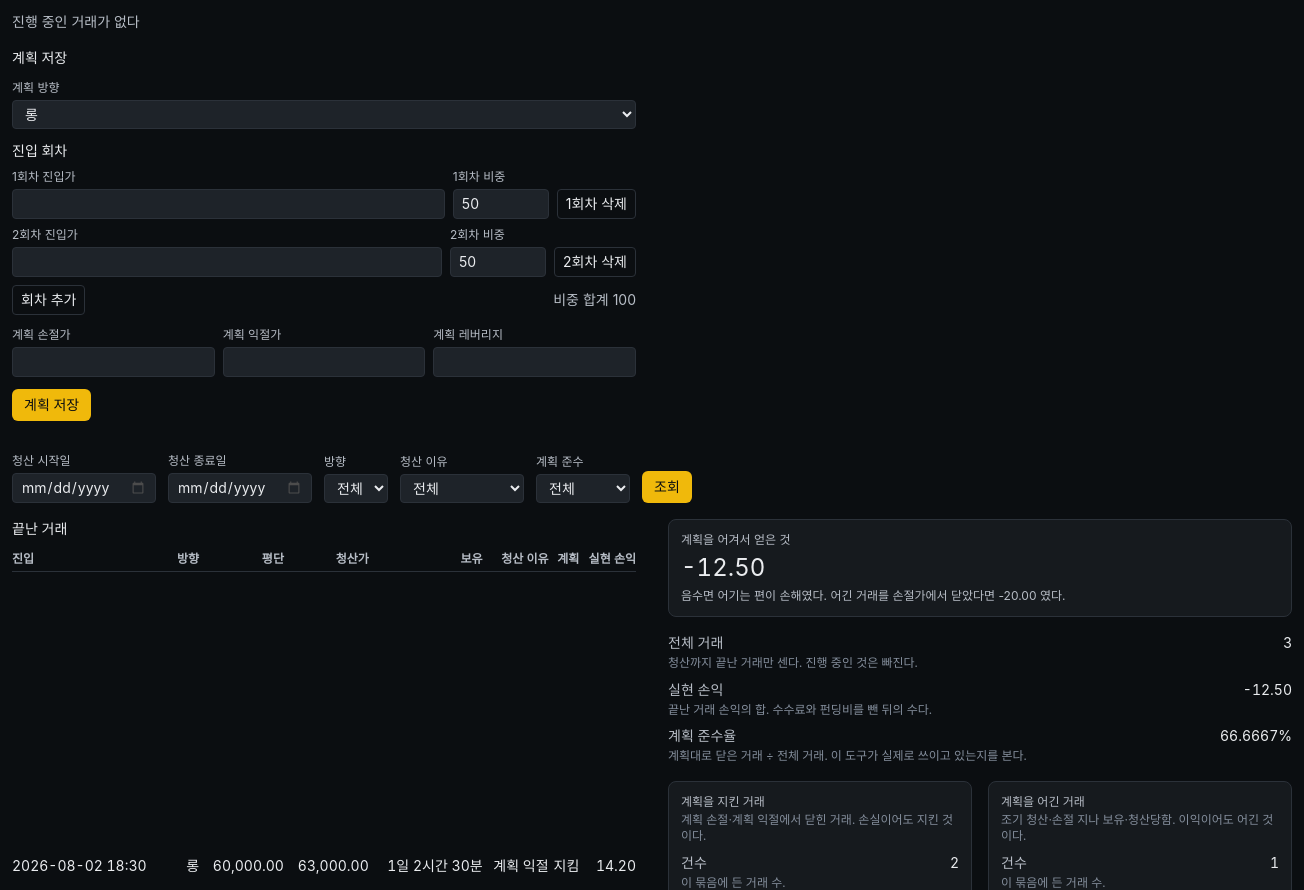
매매 기록 › 계획 저장이 422 면 서버 문장이 그대로 나온다
Click the button "계획 저장" at [52, 405], box x1=12 y1=389 x2=91 y2=421
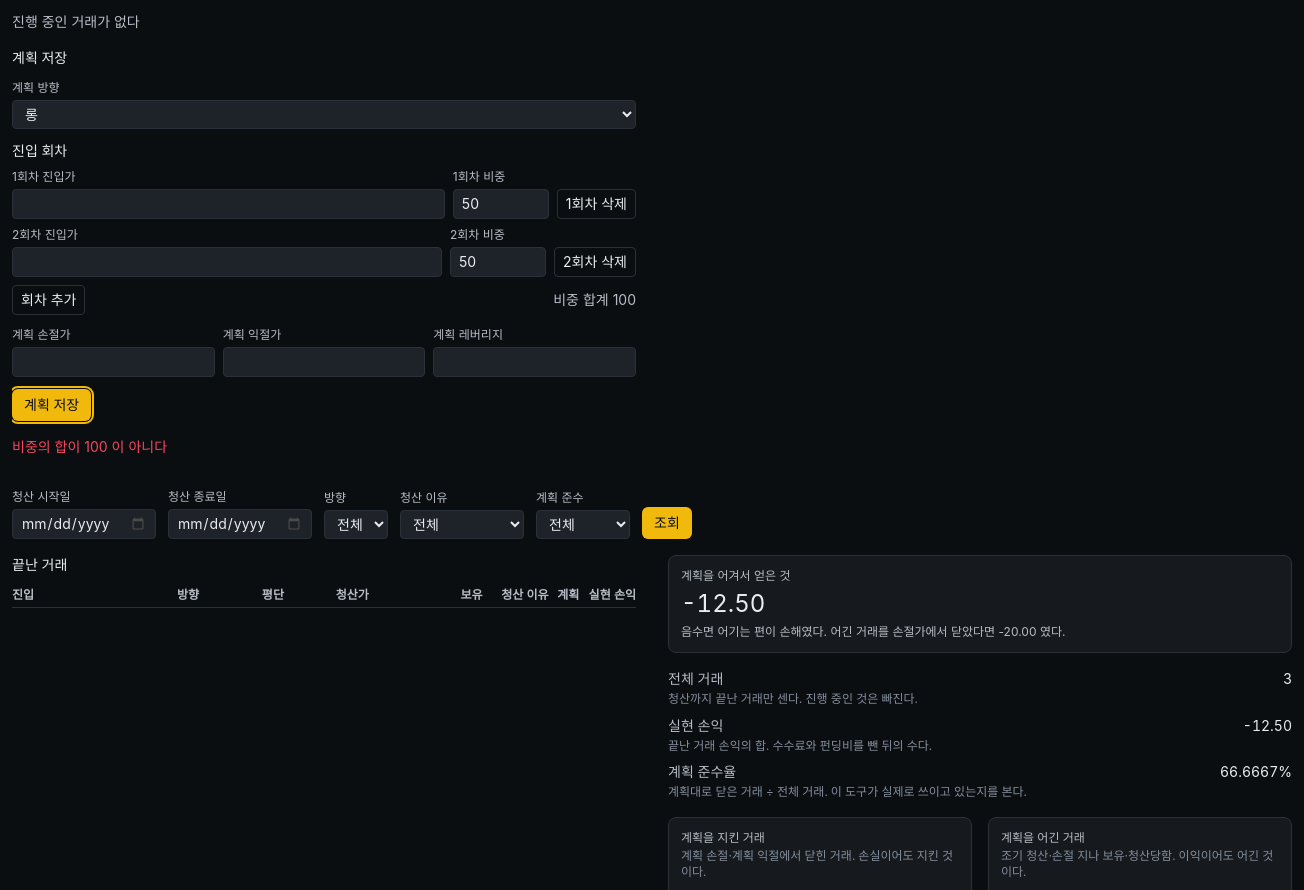
Expected: the message reads "비중의 합이 100 이 아니다", x1=12 y1=438 x2=167 y2=455
